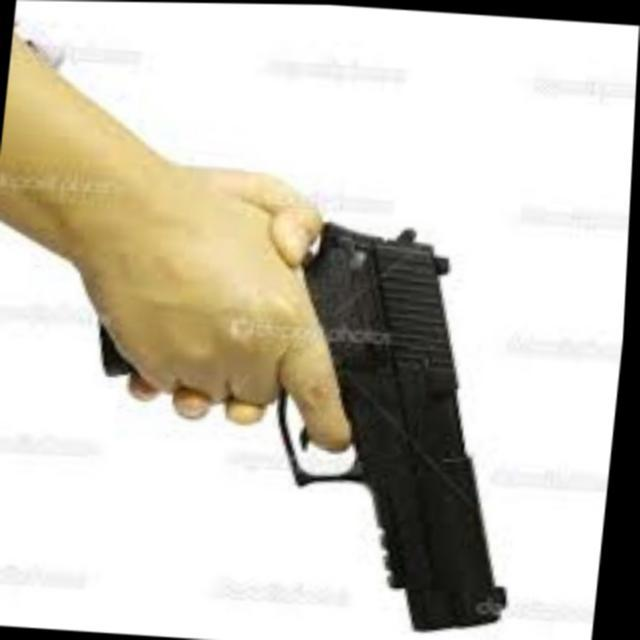weapon: (71, 200, 562, 638)
